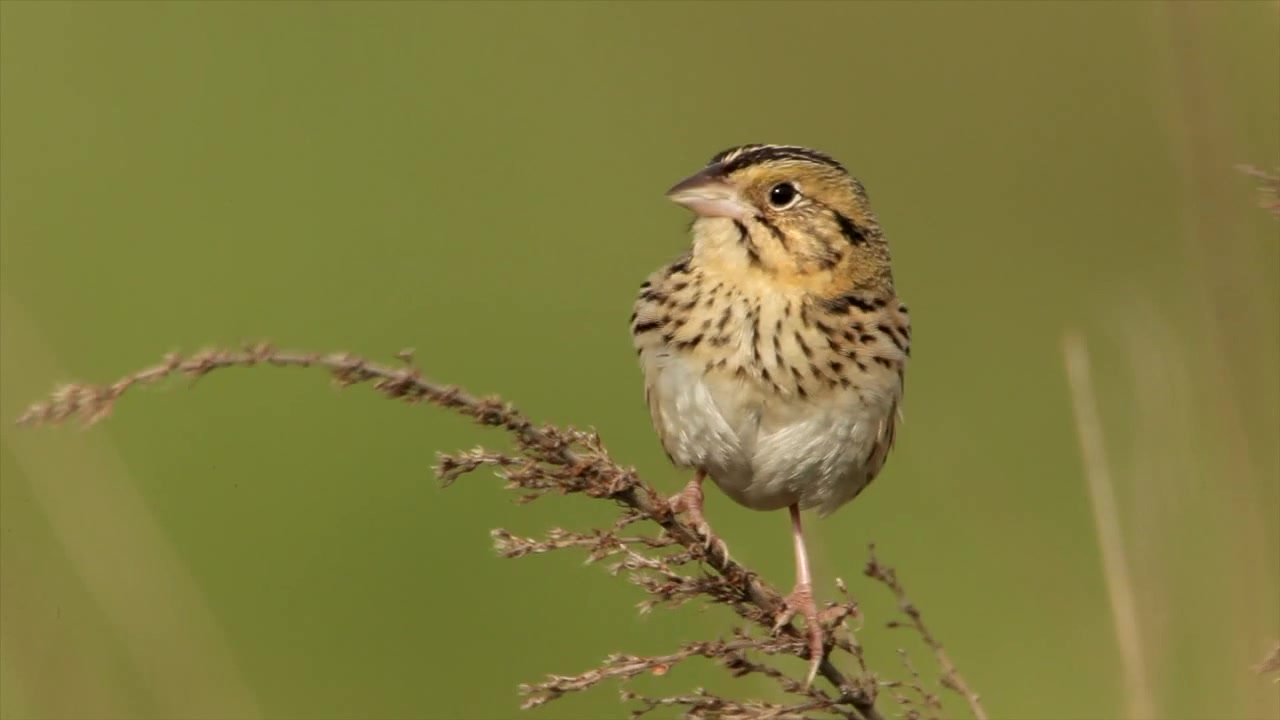bird: (627, 143, 912, 690)
